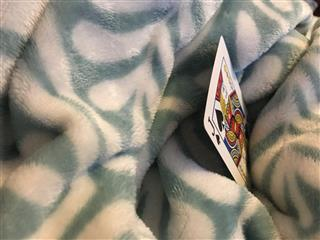JackOfSpades: (201, 34, 251, 192)
